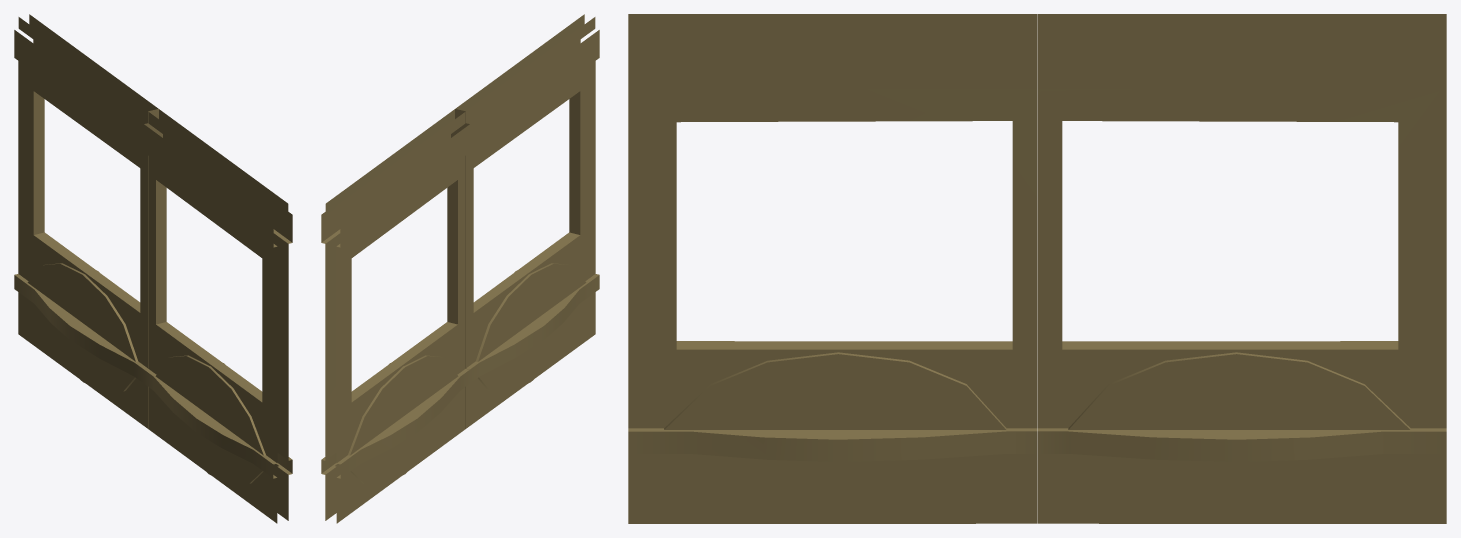
Rendered from Gl.doors.fbx.
3 renders of one model, left to right at view 1: azimuth 30°, elevation 25°; view 2: azimuth 150°, elevation 25°; view 3: azimuth 270°, elevation 25°, orthographic. The views are drawn at different scales.
Parts seen in each view (by area): view 1: Gl_door_2, Gl_door_1; view 2: Gl_door_1, Gl_door_2; view 3: Gl_door_1, Gl_door_2.
Part boxes in pixels (x1,y1,x2,y2): Gl_door_2: [144, 109, 292, 523]; Gl_door_1: [14, 14, 158, 428]; Gl_door_1: [321, 109, 469, 523]; Gl_door_2: [455, 14, 599, 428]; Gl_door_1: [1037, 14, 1446, 523]; Gl_door_2: [628, 14, 1037, 523].
Size of the model in its own units: 46.91 by 352 by 520.
